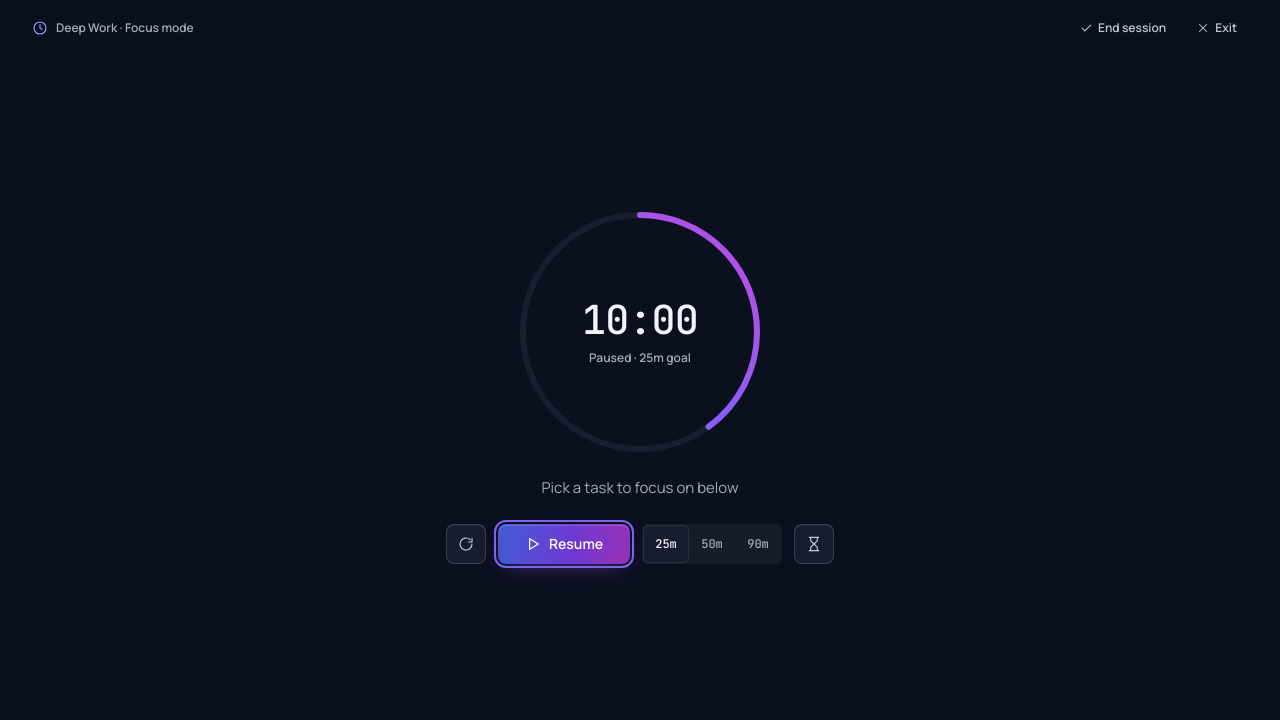
Test: FocusMode › confirms what End banked
Step 1. Click the button "End session" → x=1123, y=28, box [1068,14,1177,42]
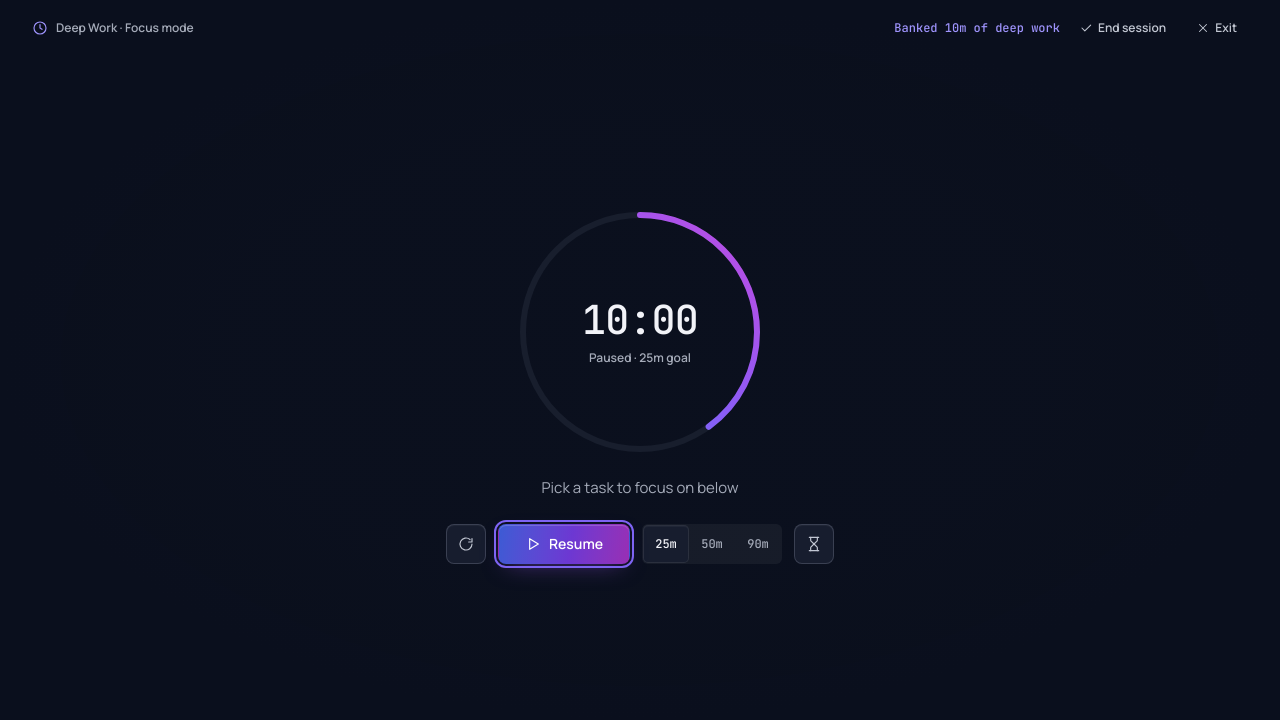
Now the text "Banked 10m of deep work" is shown, box [894,20,1060,36]
